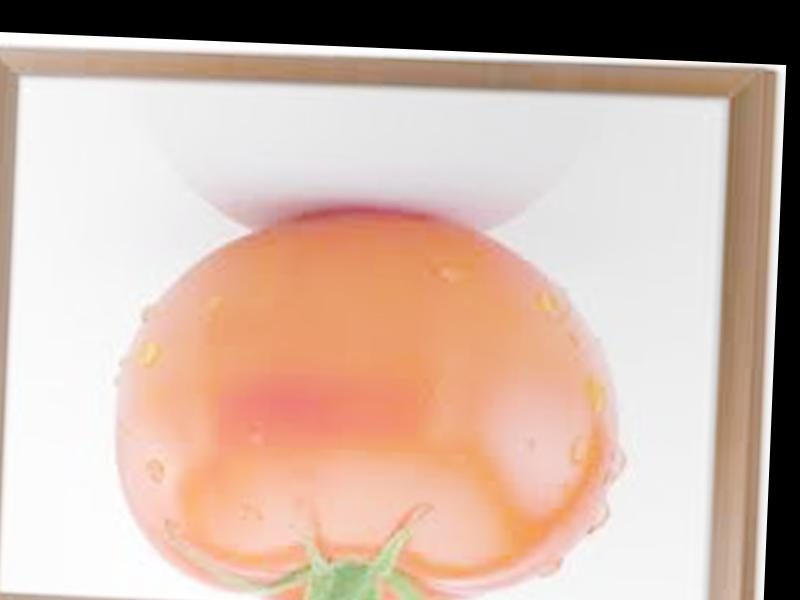Tomato: (109, 200, 628, 600)
